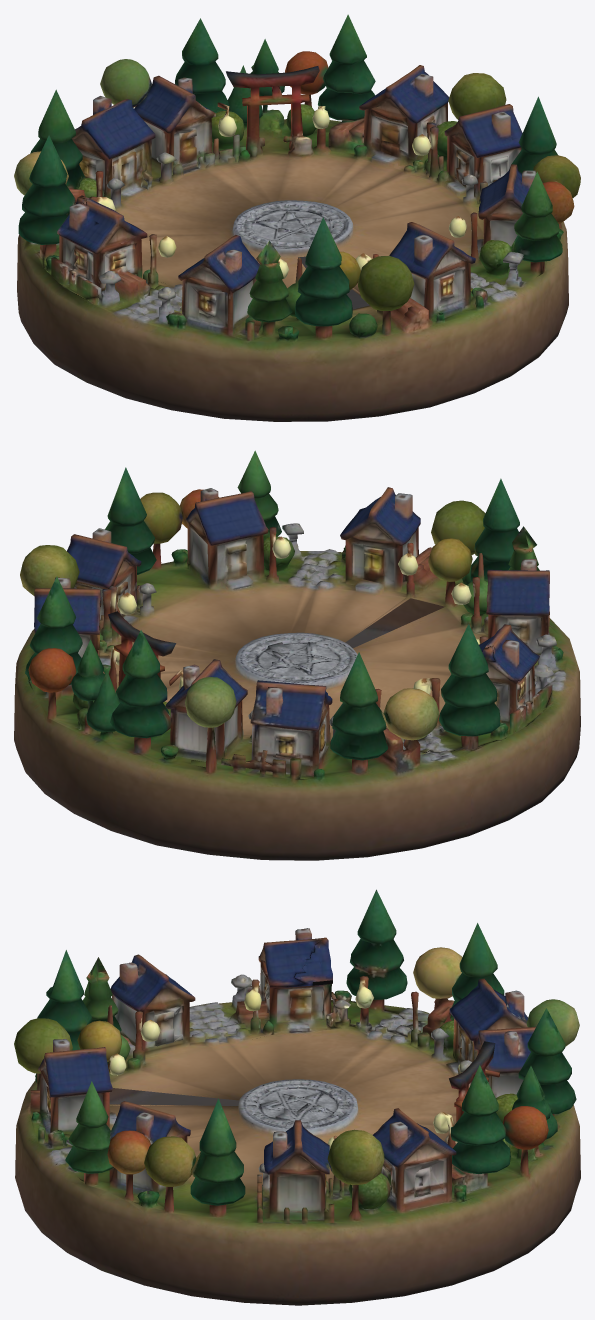
Rendered from plaza.glb.
3 renders of one model, top to bottom at view 1: azimuth 30°, elevation 25°; view 2: azimuth 150°, elevation 25°; view 3: azimuth 270°, elevation 25°, orthographic. The views are drawn at different scales.
Parts seen in each view (by area): view 1: tripo_node_bb69d522-6047-4c31-8910-d7ce0874a45d; view 2: tripo_node_bb69d522-6047-4c31-8910-d7ce0874a45d; view 3: tripo_node_bb69d522-6047-4c31-8910-d7ce0874a45d.
Boxes of the visible parts, left/top/right/bottom form: tripo_node_bb69d522-6047-4c31-8910-d7ce0874a45d: left=14, top=14, right=580, bottom=421; tripo_node_bb69d522-6047-4c31-8910-d7ce0874a45d: left=14, top=450, right=580, bottom=860; tripo_node_bb69d522-6047-4c31-8910-d7ce0874a45d: left=14, top=889, right=580, bottom=1305.
Size of the model in its own units: 0.9738 by 0.3807 by 0.9757.
Materials: 1 (1 with a texture image).
